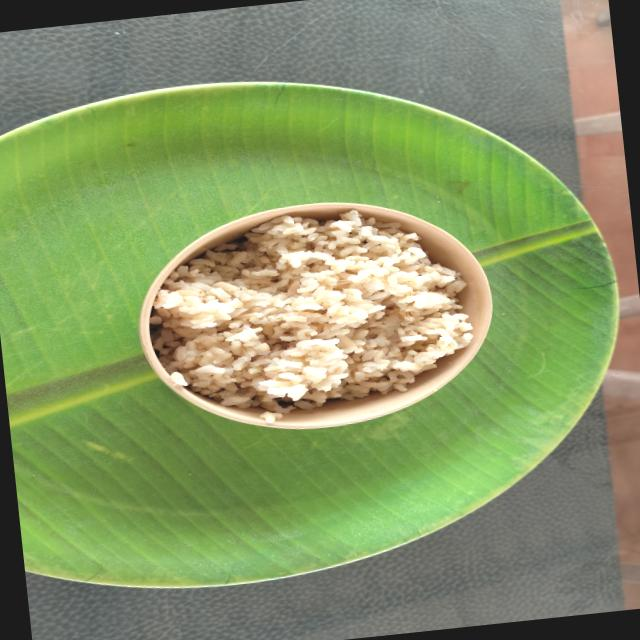brown-rice: (149, 210, 472, 413)
